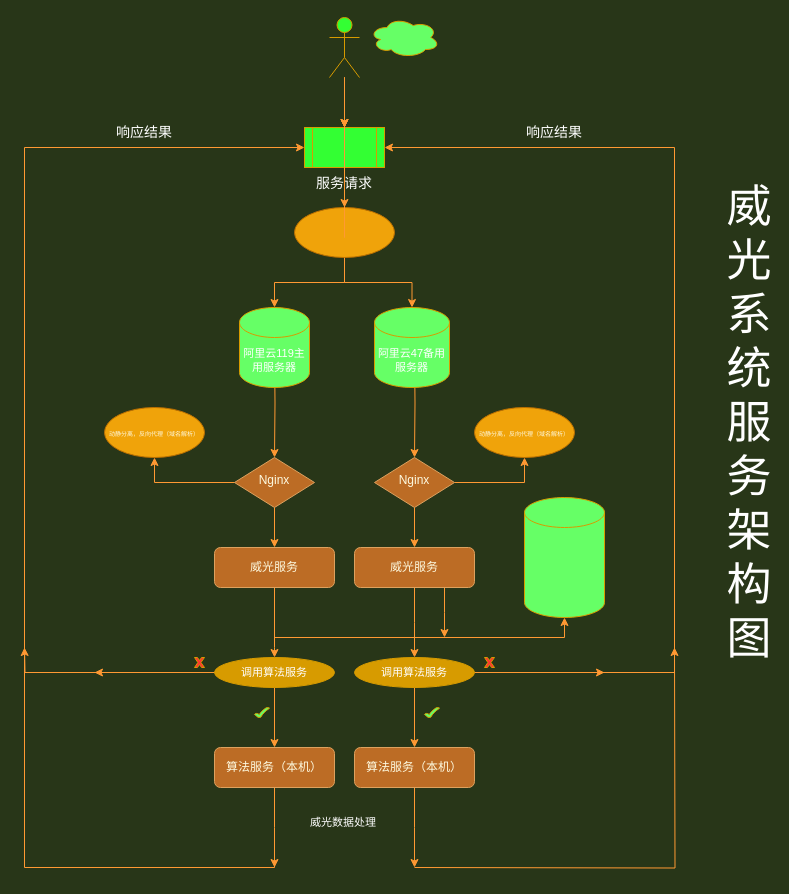
Image size: 789x894. Some labels were removed from this diagram. Each missing label, with the box of its shape:
119-Redis服务器（ 缓存查询数据，提升服务器响应速度）: (524, 496, 604, 618)
威光APP（后台）: (304, 126, 384, 168)
客户: (368, 16, 440, 58)
阿里云负载均衡CLB（权重）: (294, 206, 394, 258)
